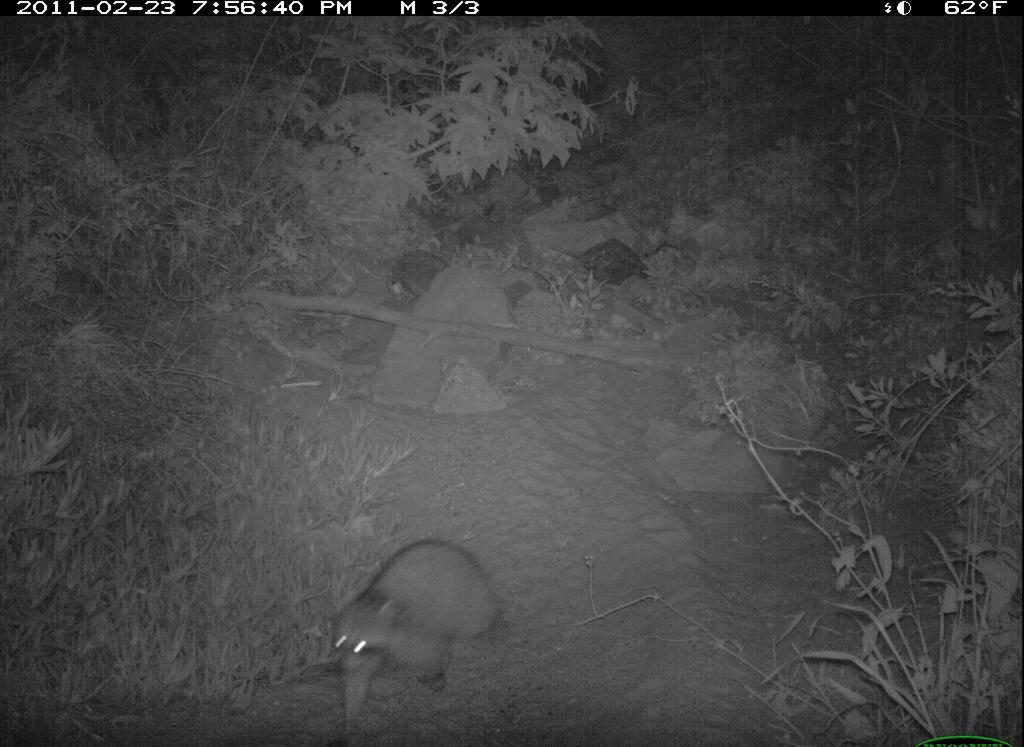raccoon: (309, 529, 516, 699)
